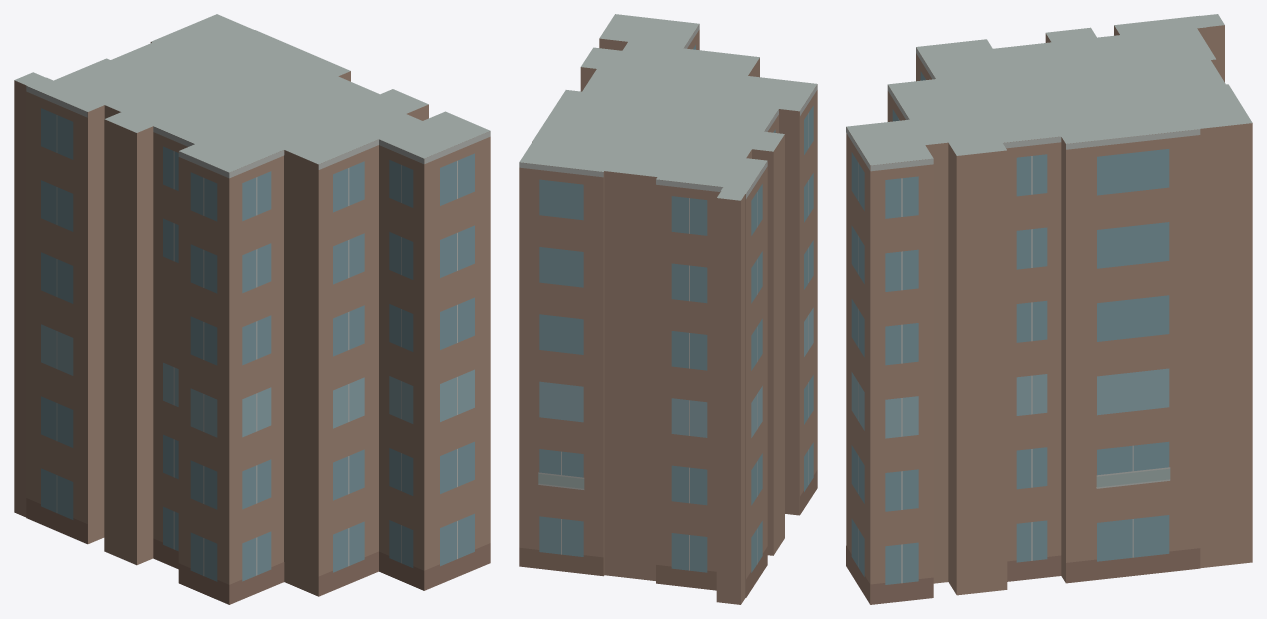
The model's file is survey-upis-32970075.glb.
3 views of the same model, side by side, from view 1: azimuth 30°, elevation 25°; view 2: azimuth 150°, elevation 25°; view 3: azimuth 270°, elevation 25° (orthographic). The views are drawn at different scales.
Parts seen in each view (by area): view 1: survey-upis-32970075.tmp; view 2: survey-upis-32970075.tmp; view 3: survey-upis-32970075.tmp.
Boxes of the visible parts, left/top/right/bottom form: survey-upis-32970075.tmp: left=14, top=14, right=490, bottom=604; survey-upis-32970075.tmp: left=519, top=14, right=817, bottom=604; survey-upis-32970075.tmp: left=846, top=14, right=1252, bottom=604.
Size of the model in its own units: 13.54 by 18.3 by 15.36.
